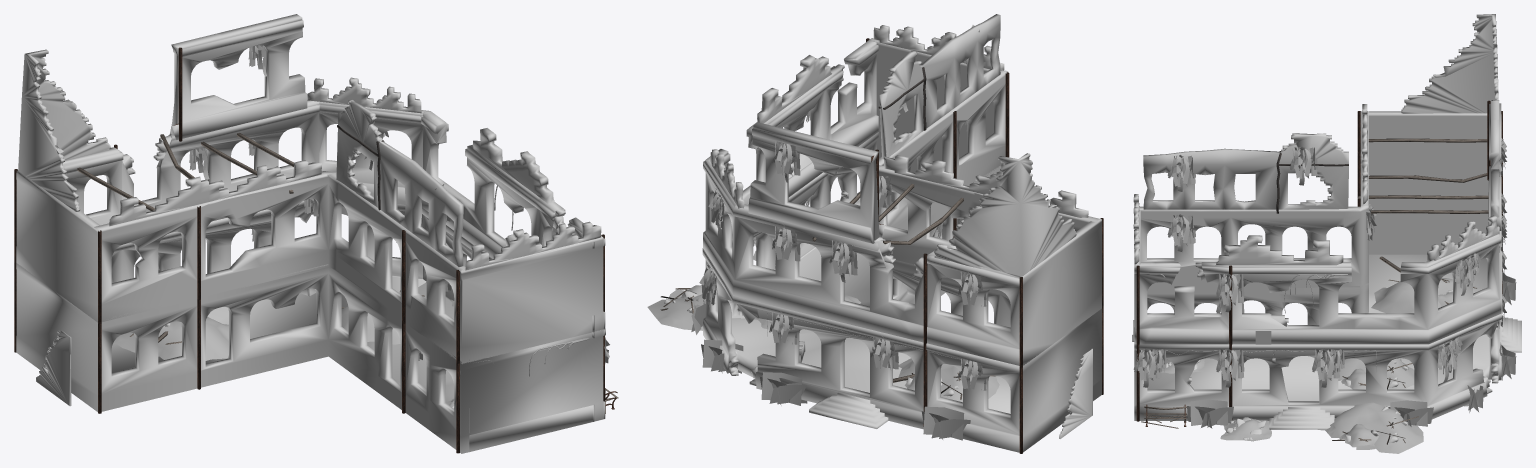
File: angleHouse1_LOD0.fbx
The picture shows the model from 3 angles, left to right: view 1: azimuth 30°, elevation 25°; view 2: azimuth 150°, elevation 25°; view 3: azimuth 270°, elevation 25°; orthographic projection. The views are drawn at different scales.
Parts seen in each view (by area): view 1: angleHouse1_LOD0; view 2: angleHouse1_LOD0; view 3: angleHouse1_LOD0.
Part boxes in pixels (bbox=[...]): angleHouse1_LOD0: bbox=[14, 14, 618, 453]; angleHouse1_LOD0: bbox=[647, 14, 1103, 453]; angleHouse1_LOD0: bbox=[1132, 14, 1521, 453].
Bounding box in the file's own units: 19.45 × 12.6 × 16.84.
